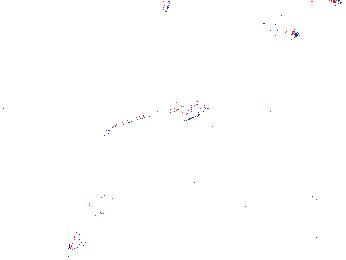X-ray fish: (66, 193, 92, 222)
glassfish: (65, 166, 130, 260), (87, 101, 212, 149)
red belly glassfish: (262, 20, 299, 40)
redtail glassfish: (160, 1, 196, 16)
